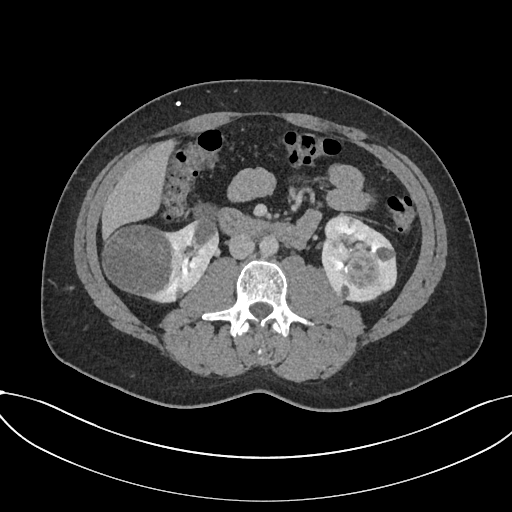Lesion: (339, 246, 384, 293)
